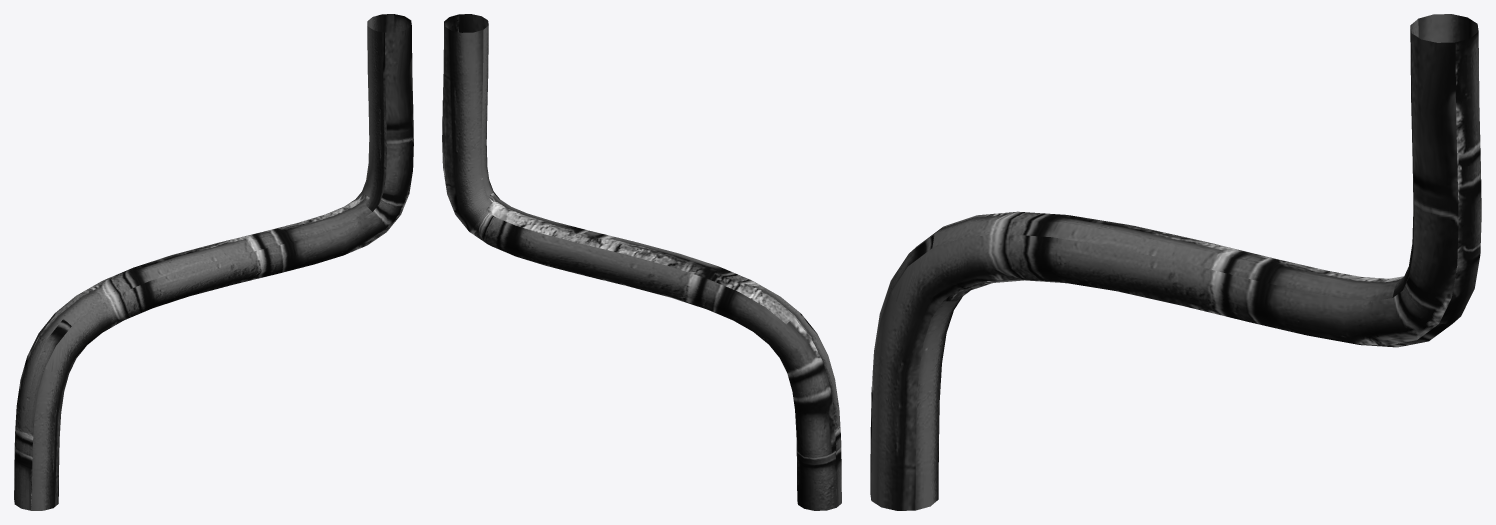
File: PipeIndustrial.fbx
The picture shows the model from 3 angles, left to right: view 1: azimuth 30°, elevation 25°; view 2: azimuth 150°, elevation 25°; view 3: azimuth 330°, elevation 25°; orthographic projection. The views are drawn at different scales.
Visible parts, largest first — view 1: BezierCurve; view 2: BezierCurve; view 3: BezierCurve.
Boxes of the visible parts, left/top/right/bottom form: BezierCurve: left=14, top=14, right=413, bottom=510; BezierCurve: left=442, top=14, right=841, bottom=510; BezierCurve: left=870, top=14, right=1481, bottom=510.
Bounding box in the file's own units: 5.03 × 0.4957 × 4.78.
